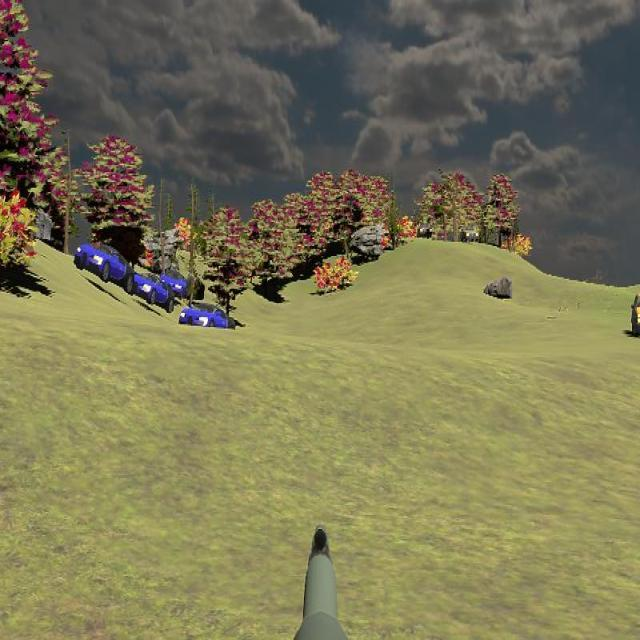car: (73, 239, 132, 289), (127, 266, 174, 313), (179, 301, 234, 335), (160, 267, 188, 299), (630, 292, 640, 339), (459, 223, 480, 244), (417, 221, 433, 239)
